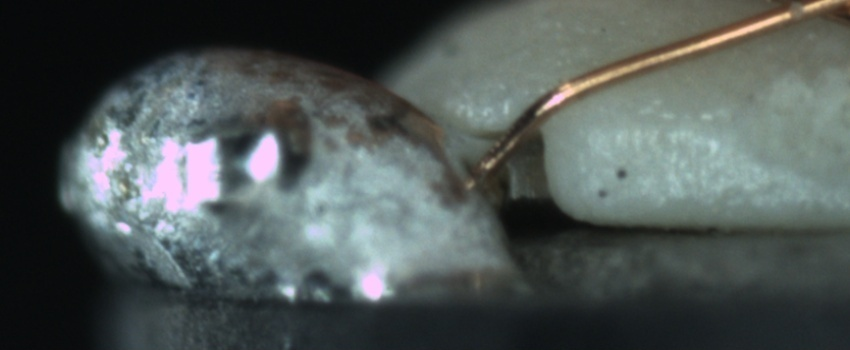CL: (763, 0, 850, 29)
DL: (594, 94, 731, 146)
